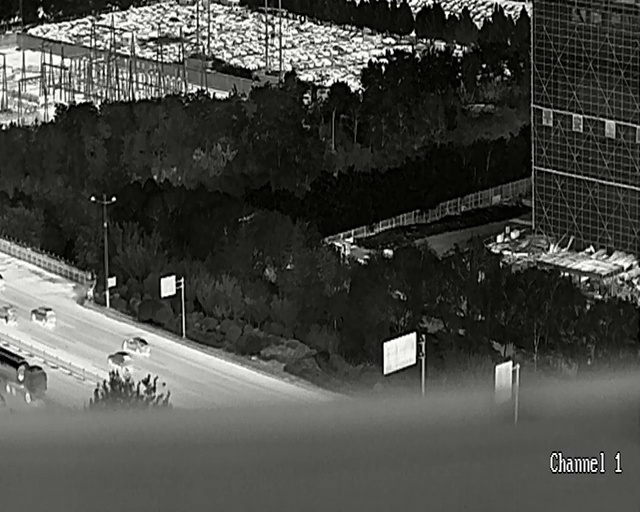uav: (238, 212, 255, 221)
